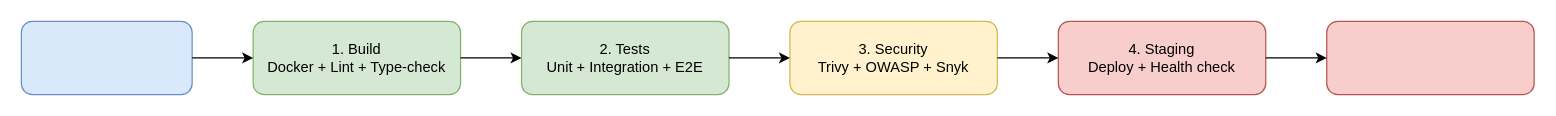
Some shapes in this 1556 by 116 pixel diagram are drawn without their labels. Here are the shapes that lost their labels. From the top down, the box of each, then its label:
(20, 20, 192, 95): Push / Pull Request
(1326, 20, 1534, 95): 5. Production Approval + Rollback
